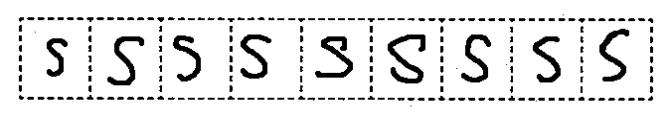S: (102, 32, 148, 88), (384, 31, 430, 86), (526, 30, 568, 88), (594, 26, 634, 84), (312, 32, 358, 82), (168, 32, 207, 86), (236, 29, 275, 81), (458, 31, 494, 84), (43, 33, 71, 79)
